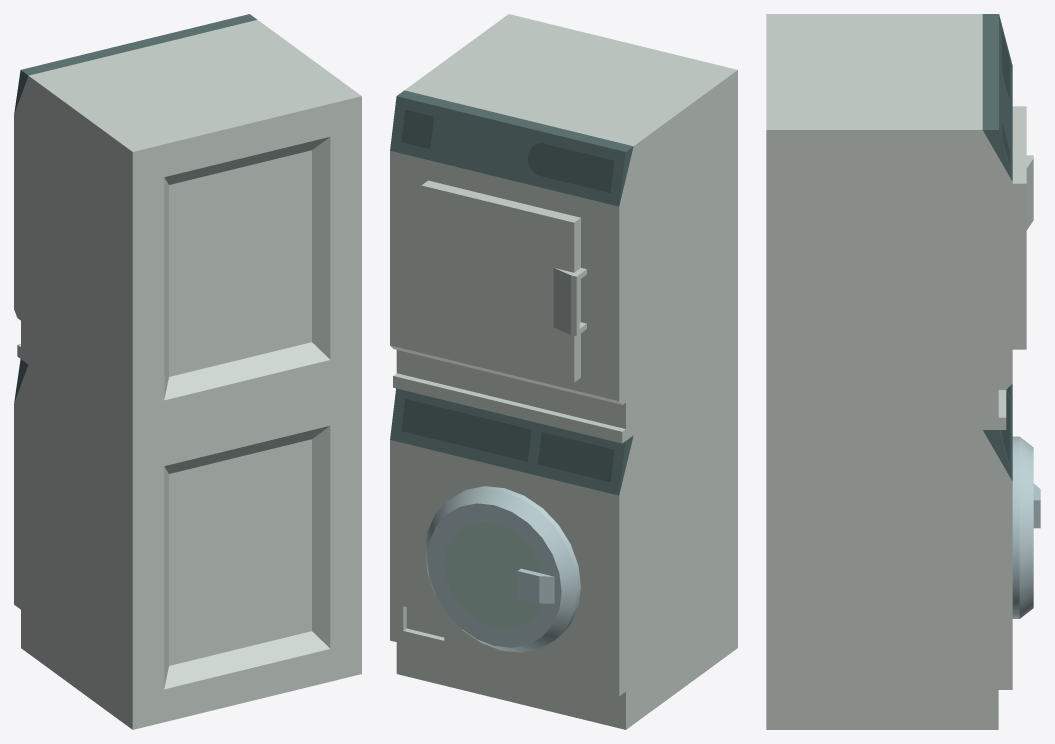
File: washerDryerStacked.fbx
The picture shows the model from 3 angles, left to right: view 1: azimuth 30°, elevation 25°; view 2: azimuth 150°, elevation 25°; view 3: azimuth 270°, elevation 25°; orthographic projection. The views are drawn at different scales.
Parts seen in each view (by area): view 1: washerDryerStacked; view 2: washerDryerStacked, dryerDoor, washerDoor; view 3: washerDryerStacked, washerDoor, dryerDoor.
Boxes of the visible parts, box(x1,y1,x2,y2) form: washerDryerStacked: box(14, 14, 361, 729); washerDryerStacked: box(390, 14, 737, 729); dryerDoor: box(421, 180, 586, 382); washerDoor: box(425, 486, 580, 652); washerDryerStacked: box(766, 14, 1012, 729); washerDoor: box(1012, 436, 1040, 618); dryerDoor: box(1012, 106, 1033, 349).
Bounding box in the file's own units: 3.9 × 9.4 × 3.9.
